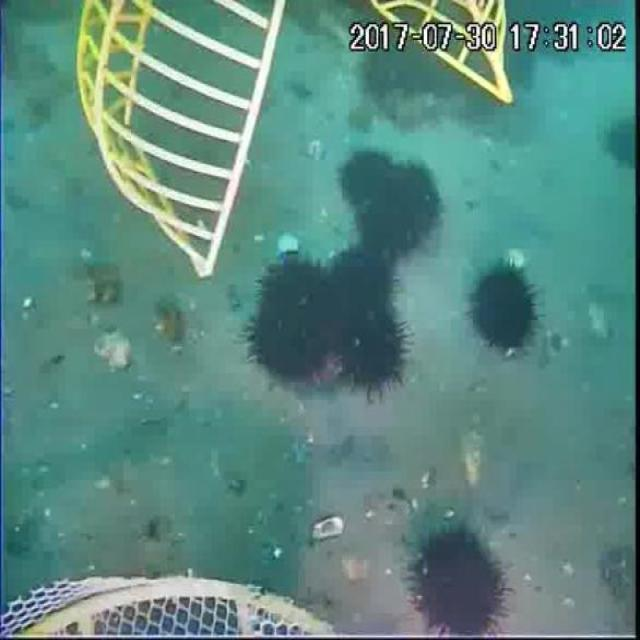echinus: (408, 525, 514, 640), (248, 285, 335, 383), (360, 161, 442, 260), (332, 305, 411, 400), (467, 261, 543, 356), (260, 245, 334, 332), (324, 247, 392, 321), (338, 142, 398, 214), (593, 542, 640, 606), (598, 118, 640, 170)
